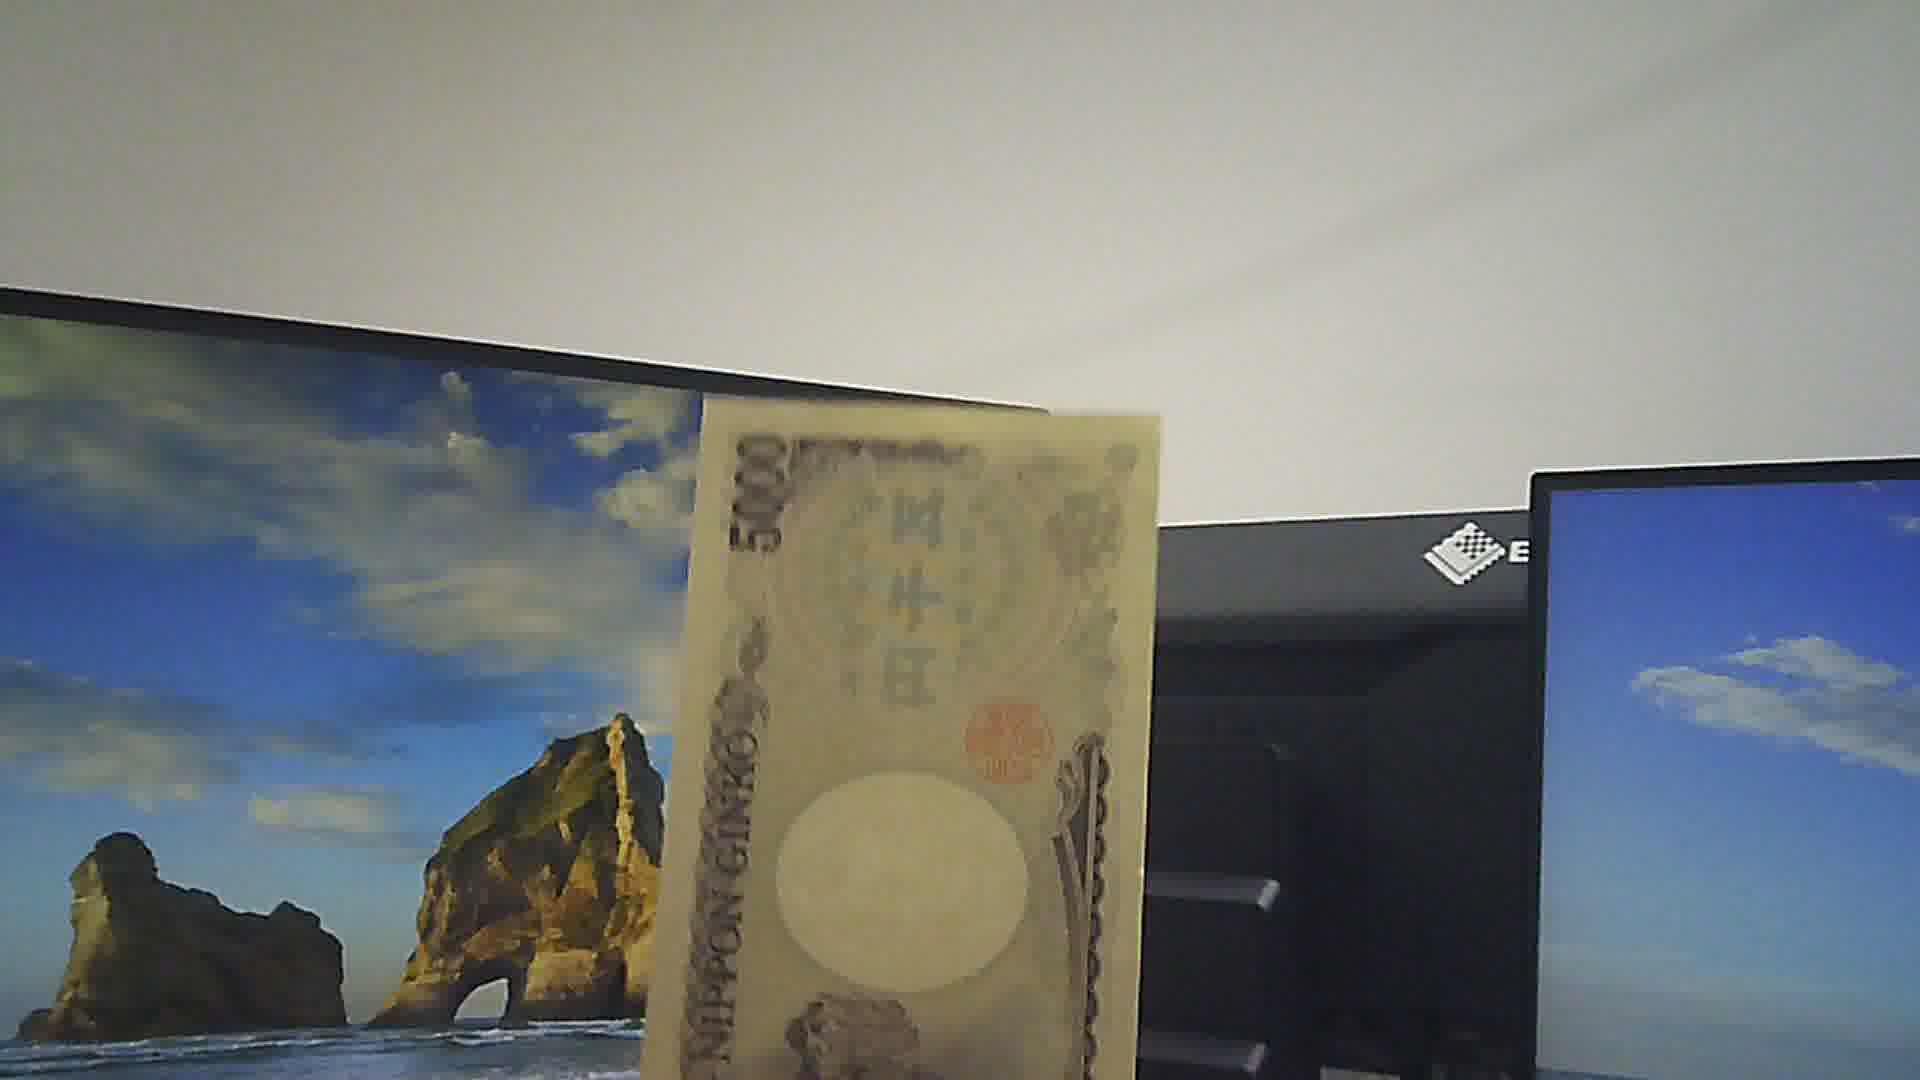5,000 Yen: (659, 388, 1170, 1079)
